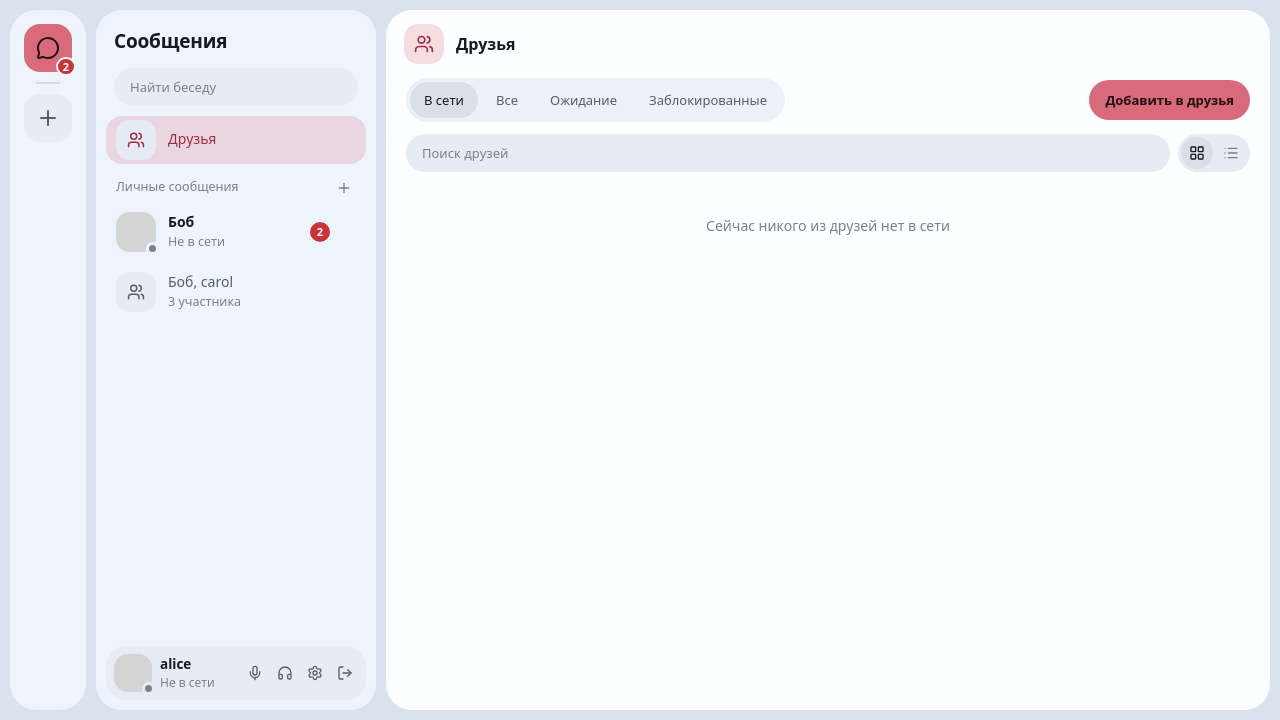
Test: DM sidebar › lists DMs with unread state and opens them
The image size is (1280, 720).
Expected: the link "Друзья" is shown, [106,116,366,164]
Expected: the link "Боб, carol 3 участника" is shown, [116,272,241,312]
Click the link with aria-label "Боб (есть непрочитанные, упоминаний: 2)".
click(223, 233)  # box [116,212,330,254]
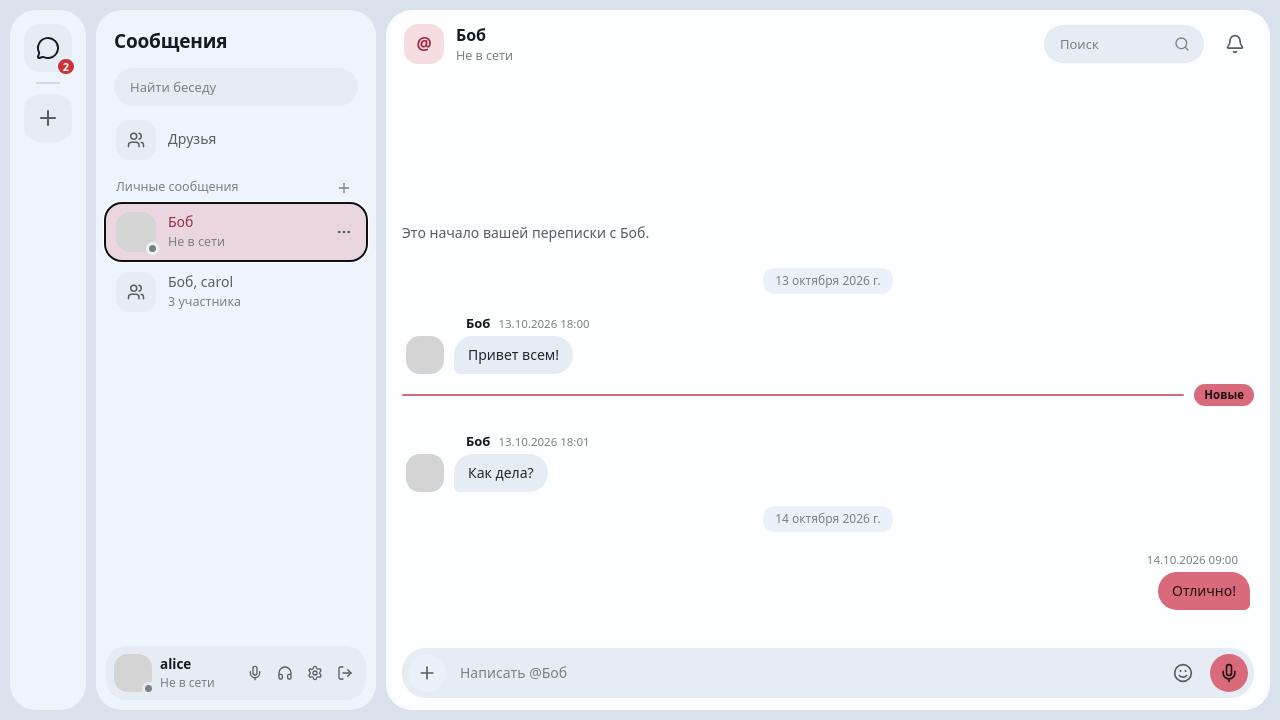
Expected: the heading "Боб" is shown, [456,23,486,47]
